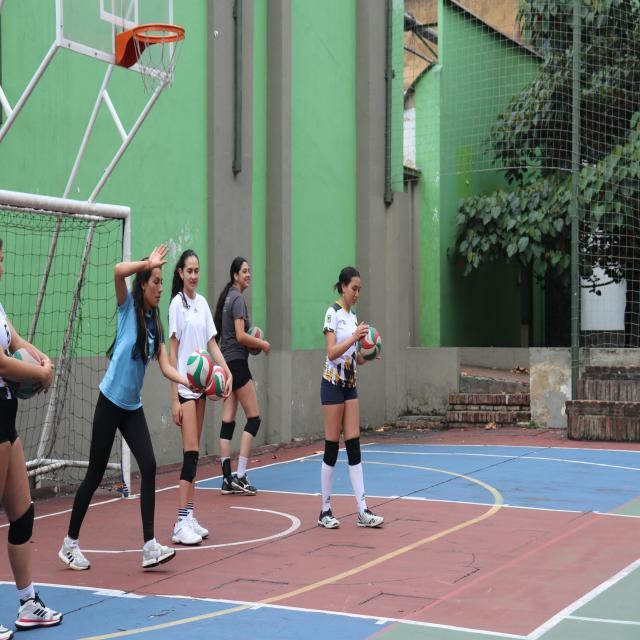volleyball: (188, 350, 215, 391), (357, 326, 382, 359), (204, 366, 227, 401), (9, 346, 42, 366), (247, 327, 264, 357)
